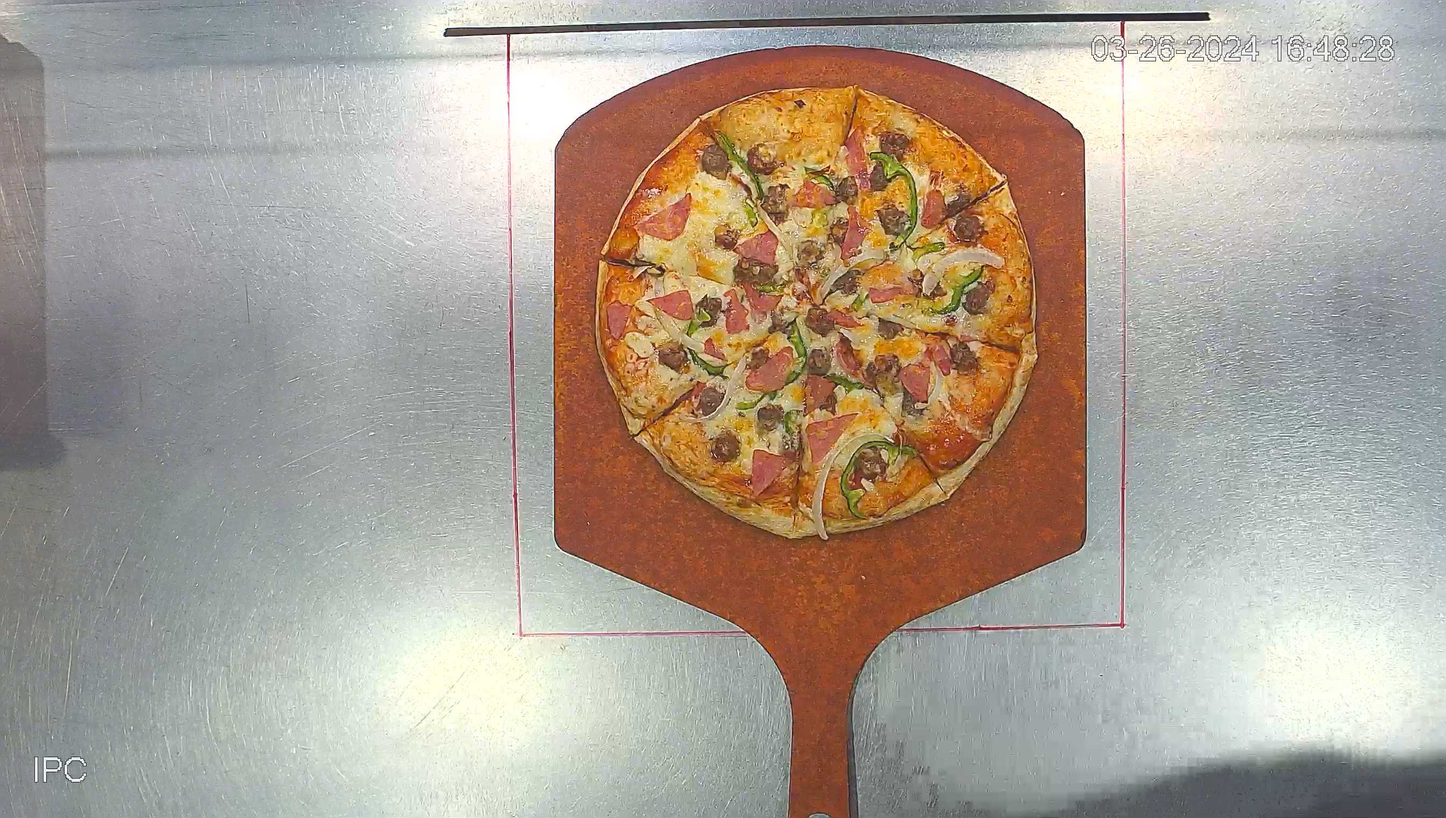hawaiian: (593, 84, 1038, 539)
